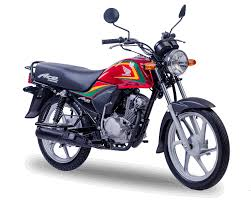motorcycle: (21, 1, 232, 192)
